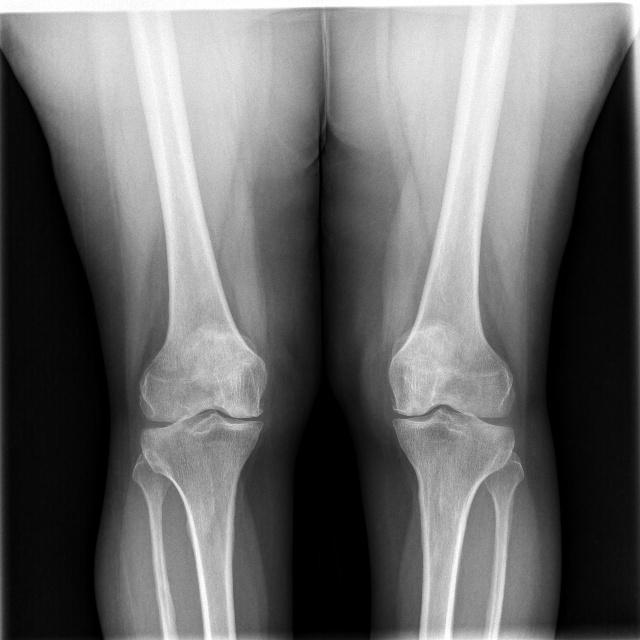Knee: (131, 347, 270, 482), (385, 342, 515, 482)
